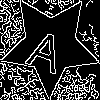A: (25, 20, 70, 75)
